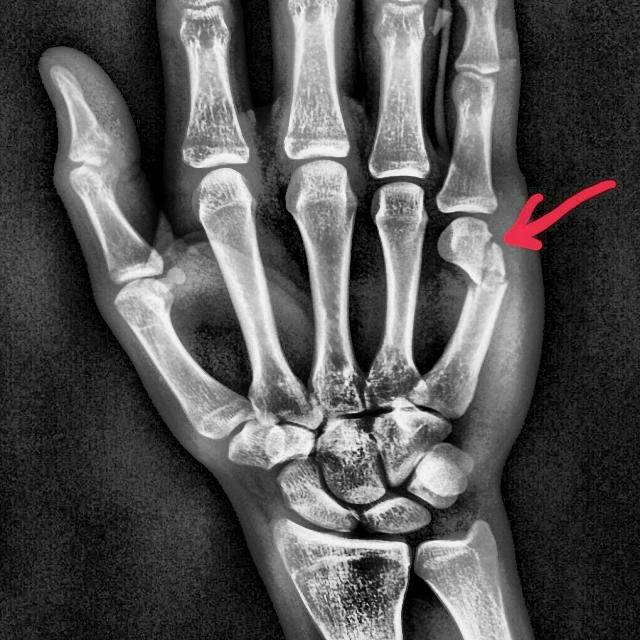fracture: (462, 234, 512, 302)
